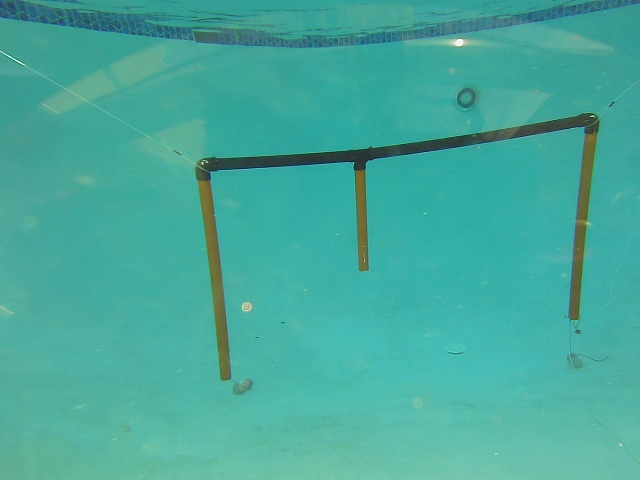Gate: (196, 174, 232, 381), (562, 127, 599, 325), (351, 162, 372, 274)
